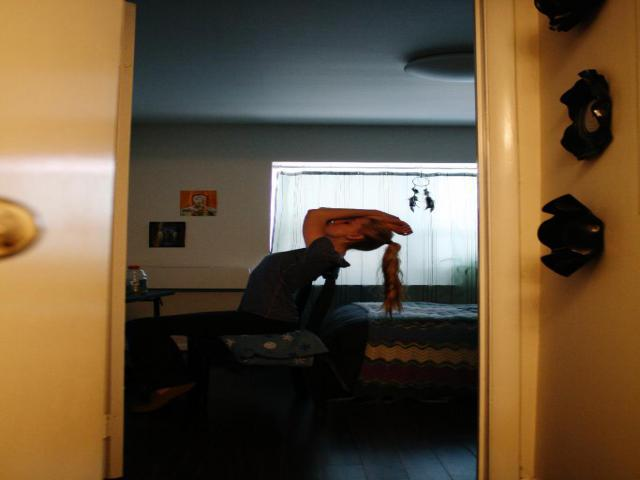Door-handle: (0, 193, 47, 257)
